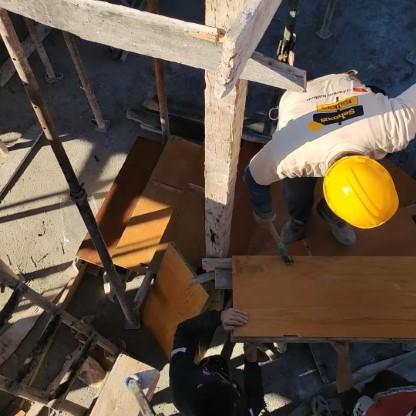helmet: (323, 149, 407, 233)
